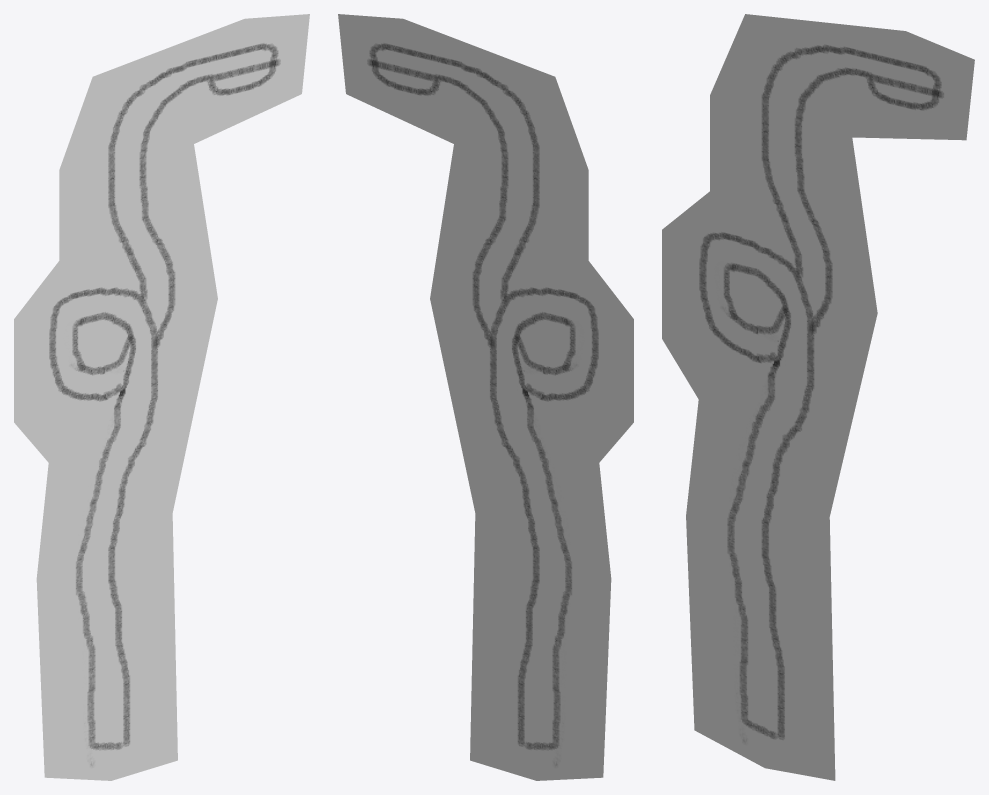
File: Lamppost1.fbx
The picture shows the model from 3 angles, left to right: view 1: azimuth 30°, elevation 25°; view 2: azimuth 150°, elevation 25°; view 3: azimuth 330°, elevation 25°; orthographic projection. The views are drawn at different scales.
Visible parts, largest first — view 1: Plane.020; view 2: Plane.020; view 3: Plane.020.
Boxes of the visible parts, x1,y1,x2,y2 form: Plane.020: [14, 14, 309, 780]; Plane.020: [338, 14, 633, 780]; Plane.020: [662, 14, 974, 780].
Size of the model in its own units: 45.66 by 108 by 1.75e-05.
1 material, 1 textured.
